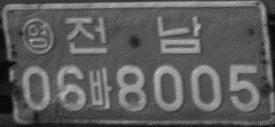0: (189, 63, 222, 113), (152, 64, 184, 112), (21, 64, 51, 112)
5: (228, 63, 260, 113)
6: (56, 64, 87, 112)
8: (115, 65, 147, 112)
바: (87, 67, 113, 109)
영: (20, 18, 55, 54)
전남_D: (63, 15, 203, 56)
